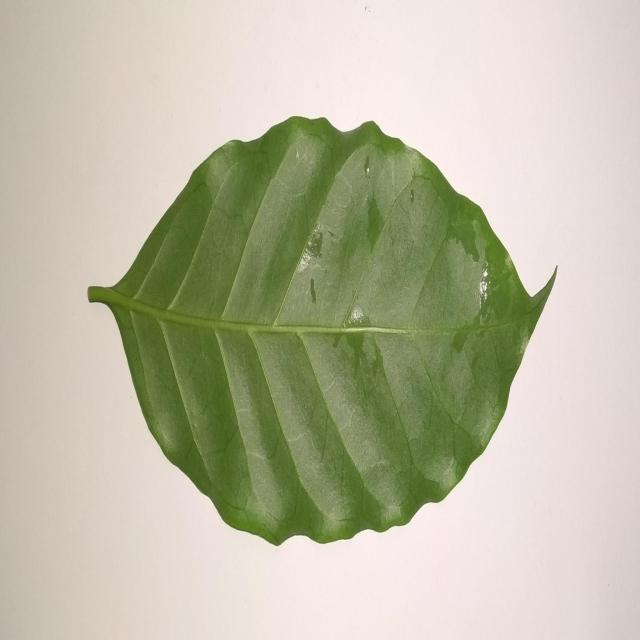Sanas: (86, 117, 555, 548)
